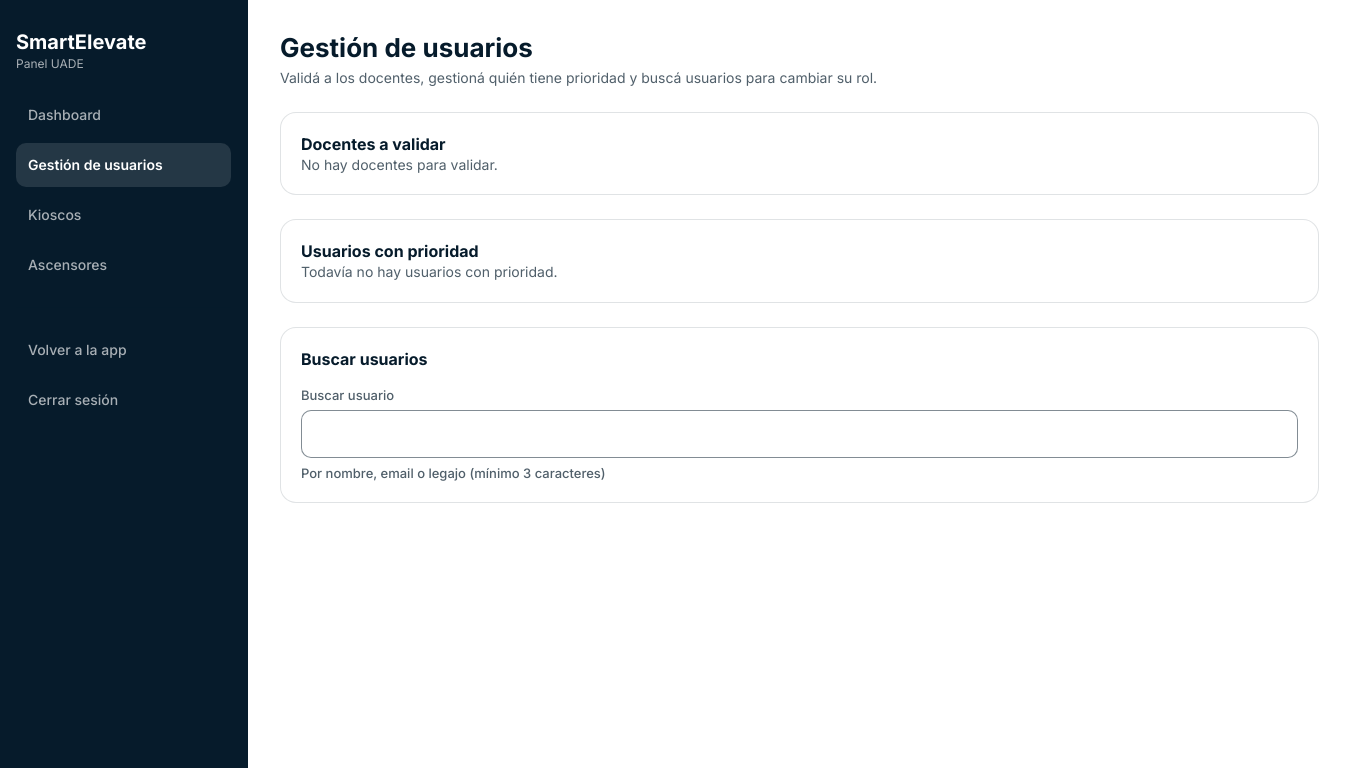
it: Gestión de usuarios (09b) › el menú ofrece modificar rol y cambiar tipo, y deja bloquear para más adelante
Type "carla" into the search field labelled "Buscar usuario" at (800, 434), box [301,410,1298,458]
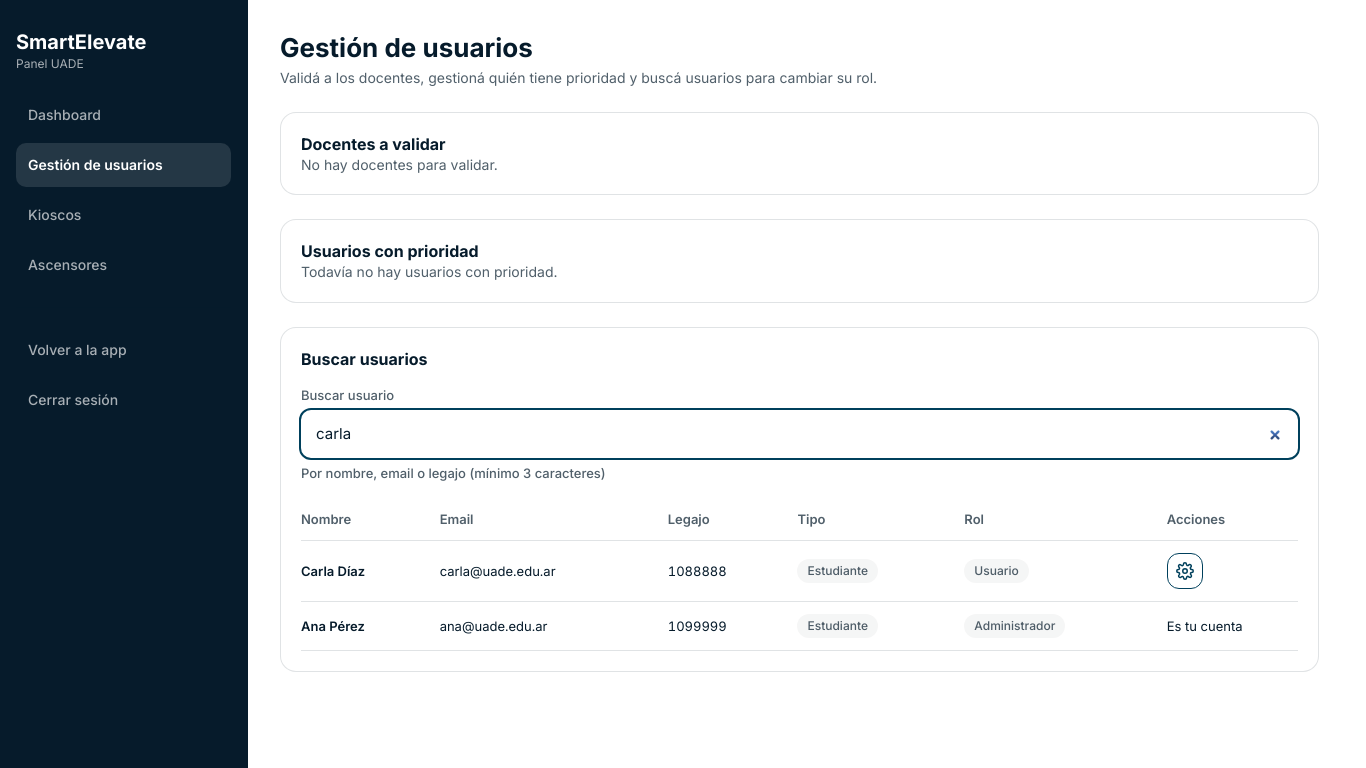
Click the button named "Gestionar usuario Carla Díaz" at (1185, 571), box [1167,553,1203,589]
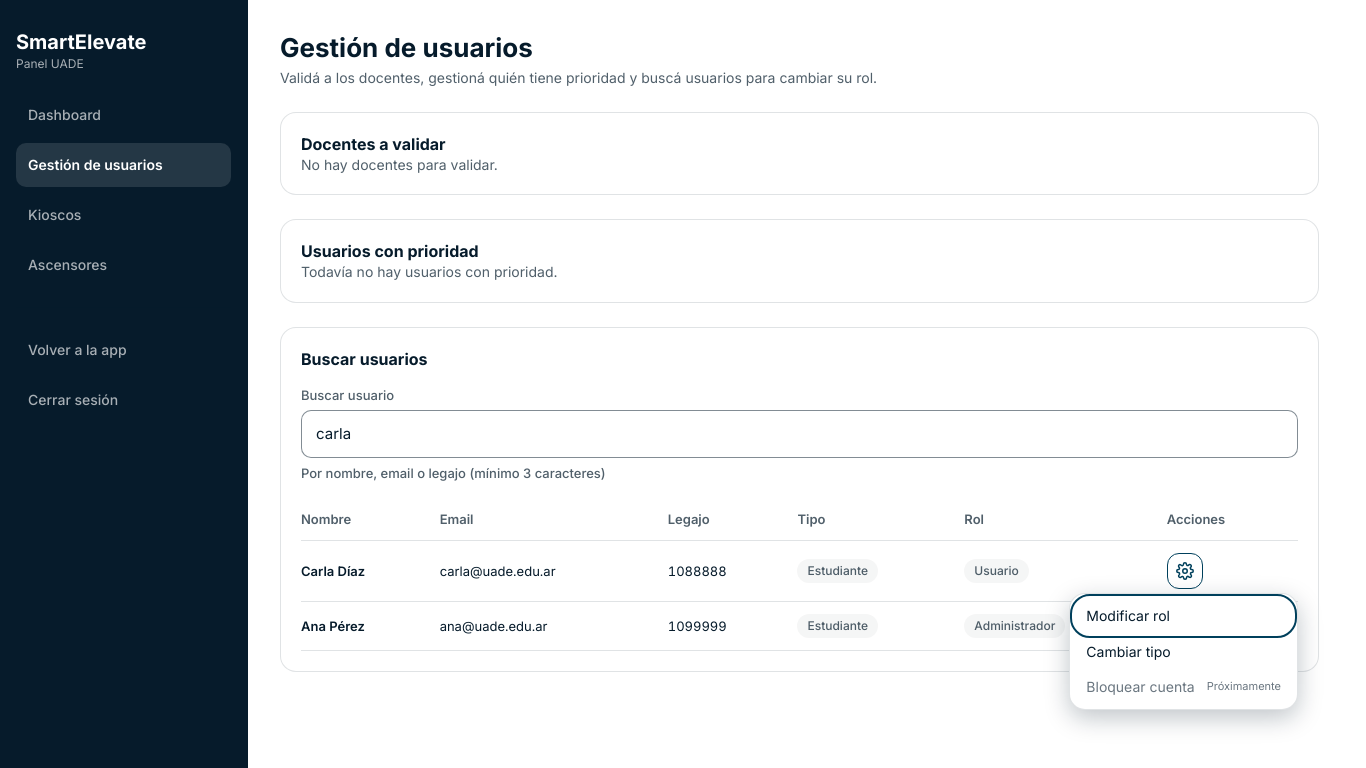
Expected: the menu item "Modificar rol" is enabled, [1074,598,1293,634]
Expected: the menu item "Cambiar tipo" is enabled, [1074,634,1293,669]
